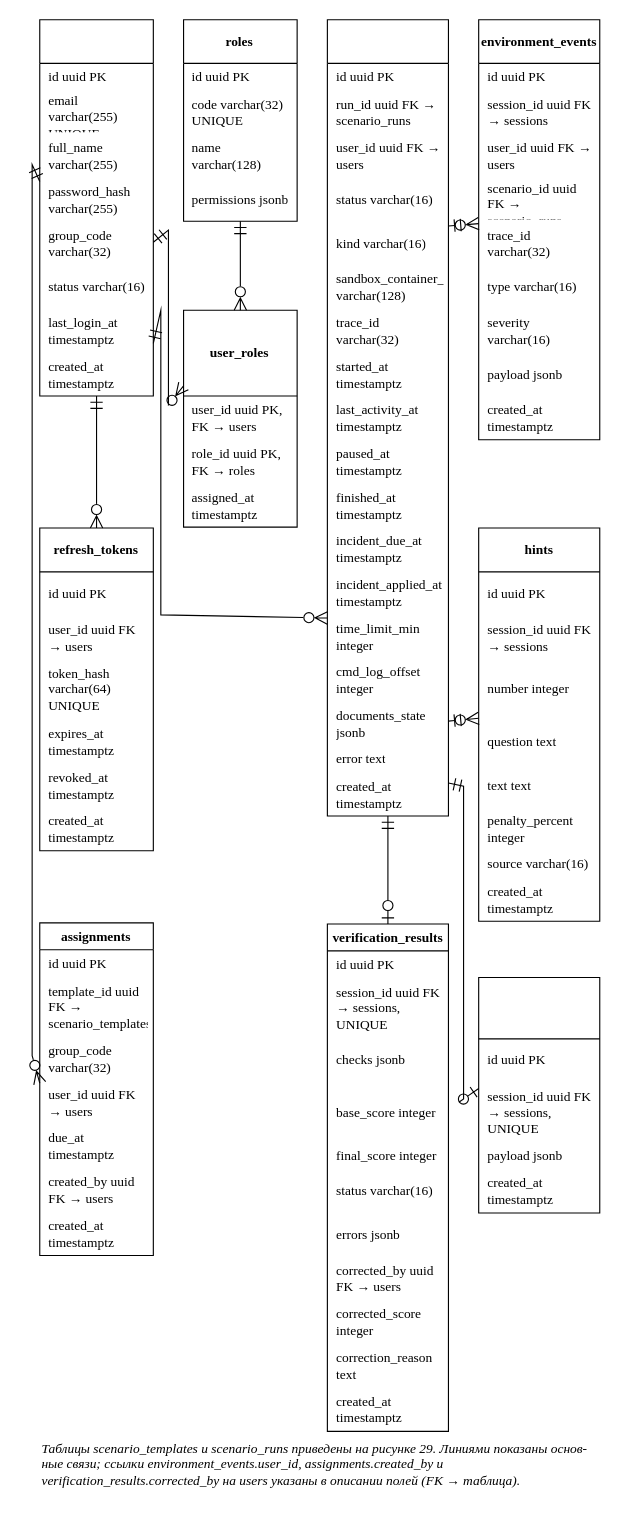
Some shapes in this 619 by 1514 pixel diagram are drawn without their labels. Each missing label, with the box of its shape:
reports: (478, 976, 600, 1213)
sessions: (326, 19, 448, 816)
users: (39, 19, 153, 396)
